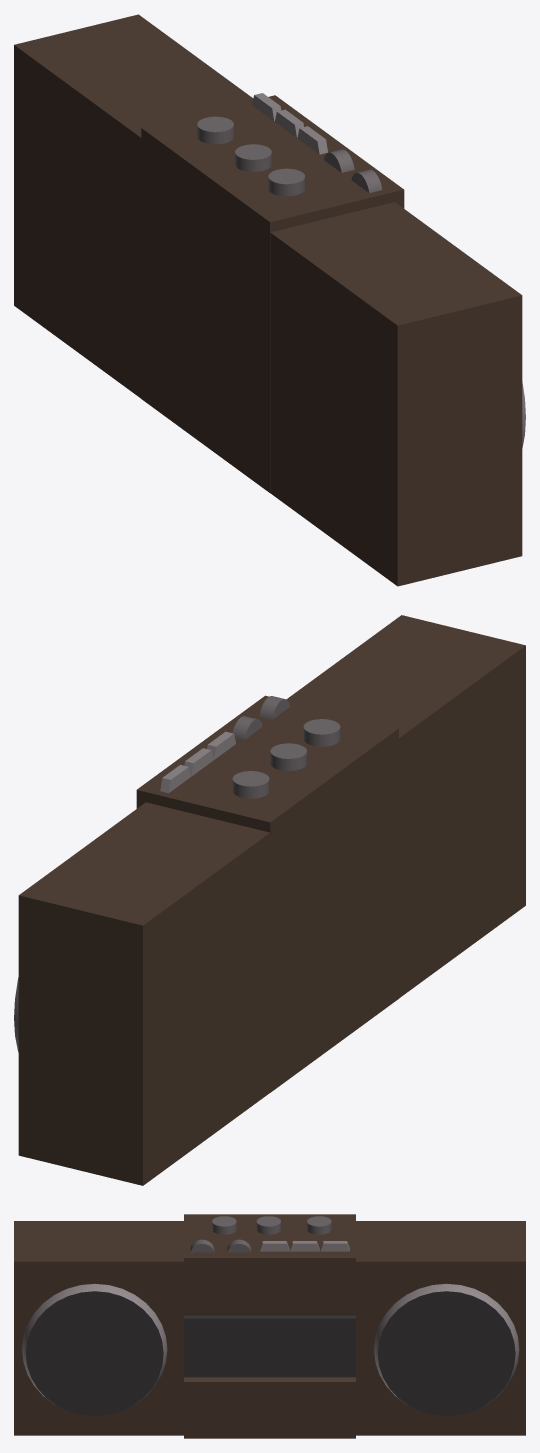
The model's file is SM_Magnitofon.fbx.
3 views of the same model, one above another, from view 1: azimuth 30°, elevation 25°; view 2: azimuth 150°, elevation 25°; view 3: azimuth 270°, elevation 25° (orthographic). The views are drawn at different scales.
Visible parts, largest first — view 1: Cube.002; view 2: Cube.002; view 3: Cube.002.
Part boxes in pixels (x1,y1,x2,y2): Cube.002: (14,14,525,586); Cube.002: (14,615,525,1185); Cube.002: (14,1214,525,1438).
Bounding box in the file's own units: 16.53 × 80 × 32.64.
